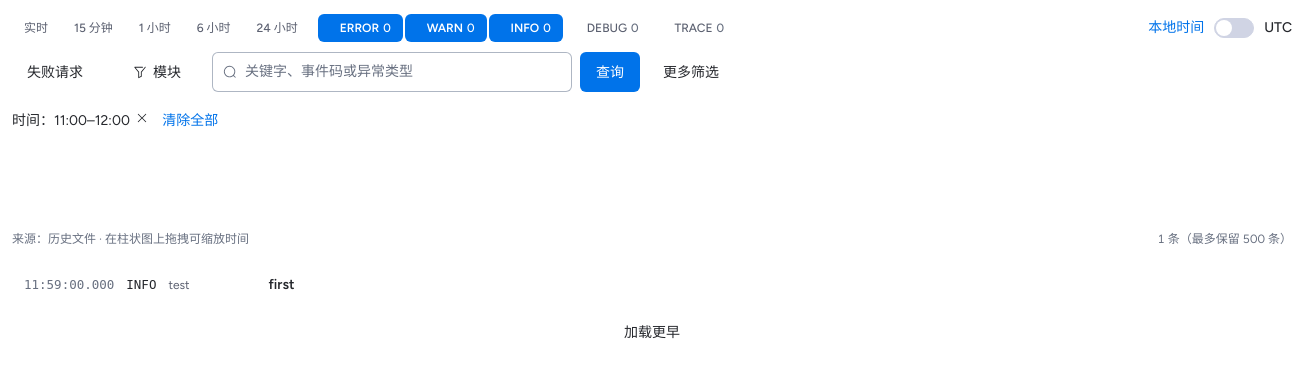
Scenario: 历史日志筛选 › 编辑中的筛选不会污染分页，重新查询后丢弃被中止的旧页
Type "new" into the field named "搜索日志" at [403, 72], box [245, 53, 561, 91]
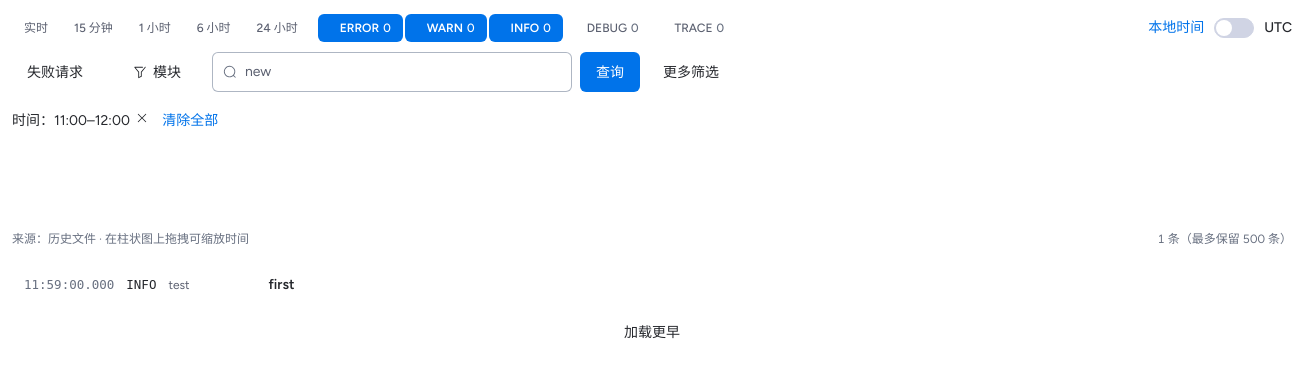
Click the button "加载更早" at [652, 332], box [609, 312, 695, 352]
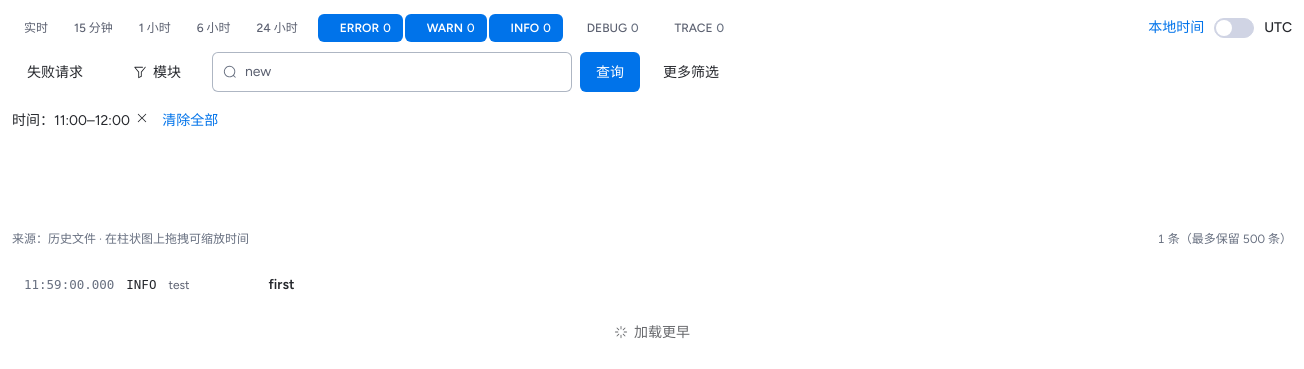
Click the button "查询" at [610, 72], box [580, 52, 640, 92]
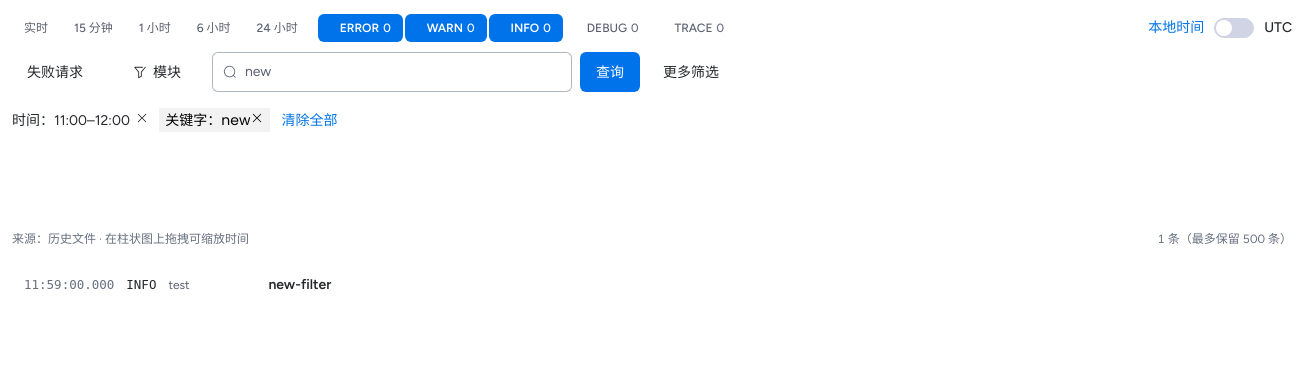
Expected: the text "new-filter" is shown, [268, 276, 331, 293]
